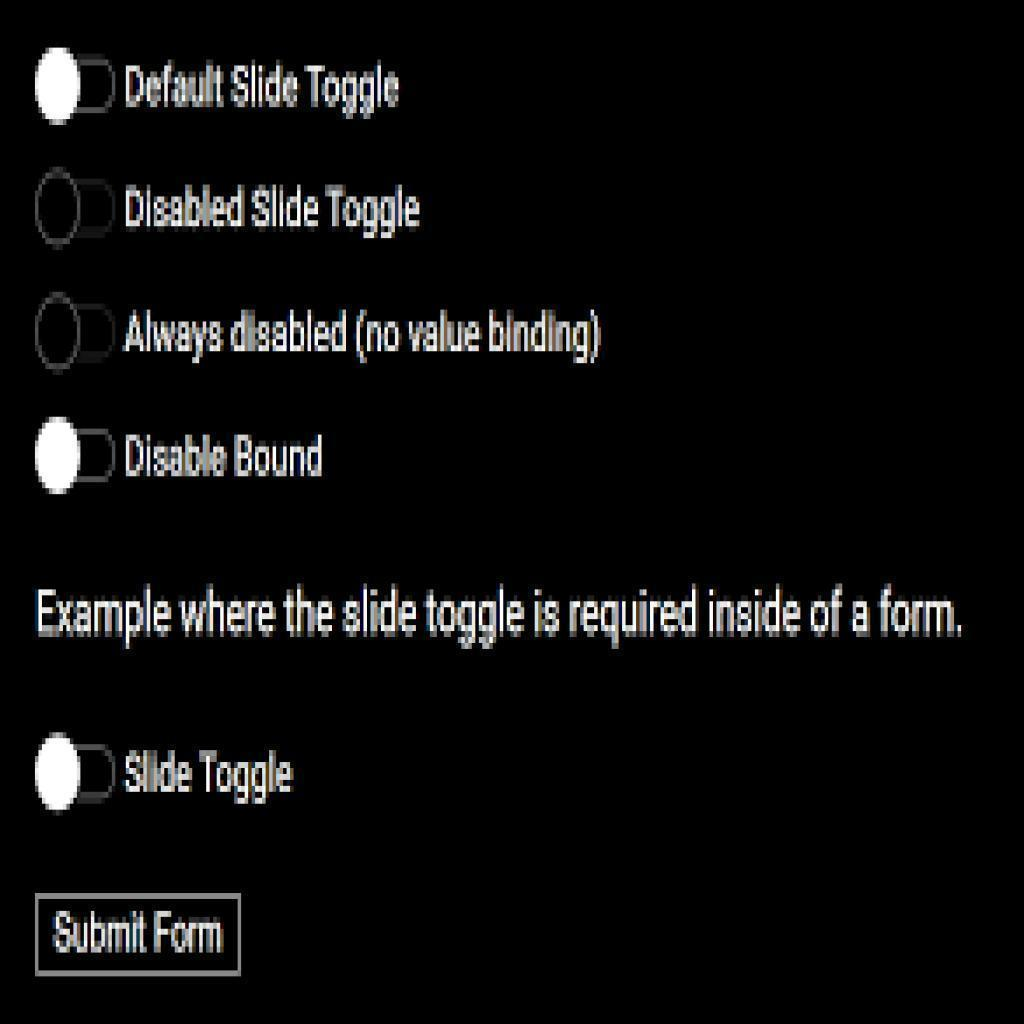button: (36, 892, 240, 976)
label: (25, 584, 961, 646), (124, 310, 610, 364), (125, 53, 400, 118), (123, 179, 423, 238), (124, 742, 297, 808), (122, 434, 333, 481)
switch: (26, 726, 122, 817), (32, 164, 120, 255), (28, 41, 117, 129), (28, 287, 115, 372), (33, 413, 115, 492)
